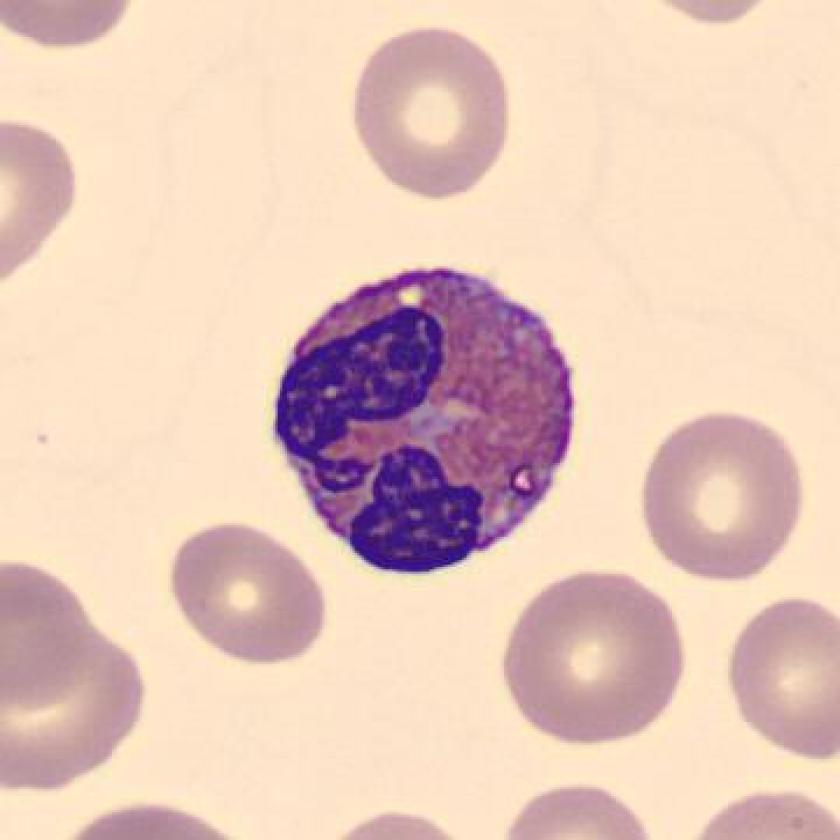eosinophil: (253, 251, 596, 591)
